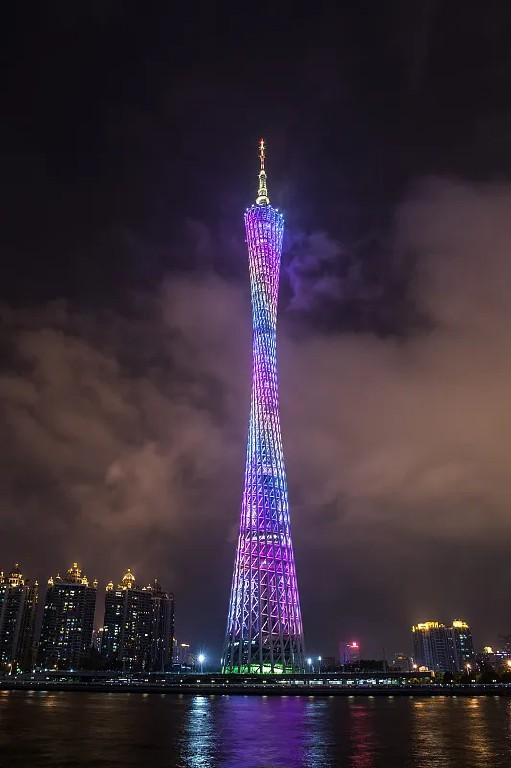Canton: (215, 139, 314, 674)
